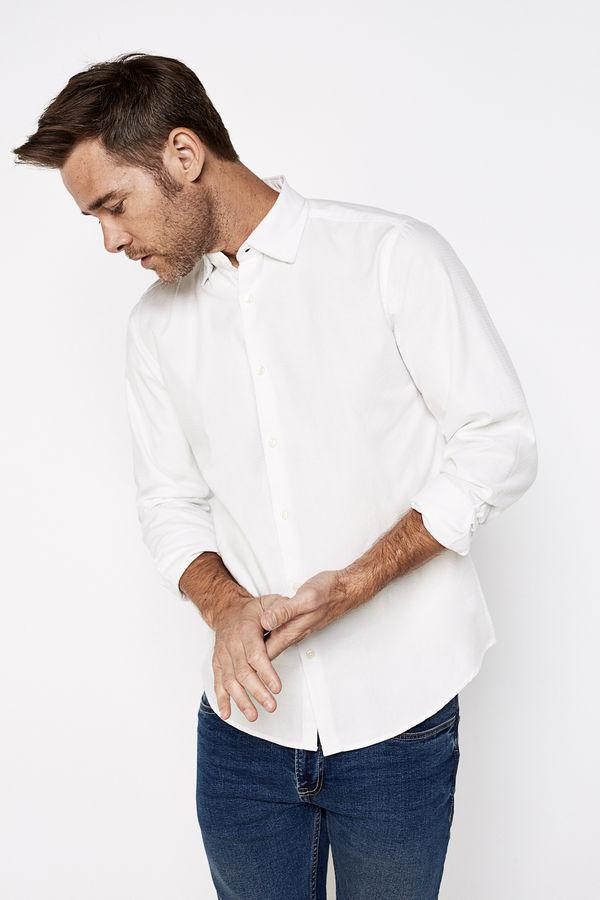teeshirt: (85, 266, 551, 756)
